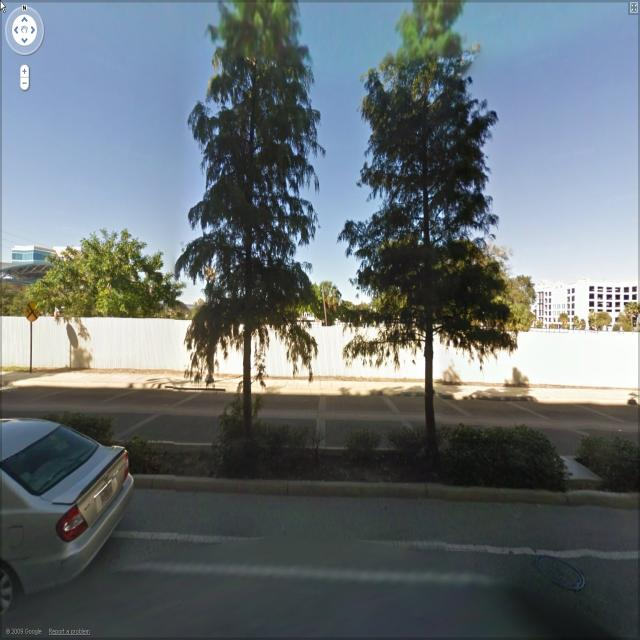b_1: (536, 265, 636, 336)
b_2: (0, 238, 110, 290)
